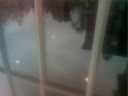window: (1, 1, 120, 94)
